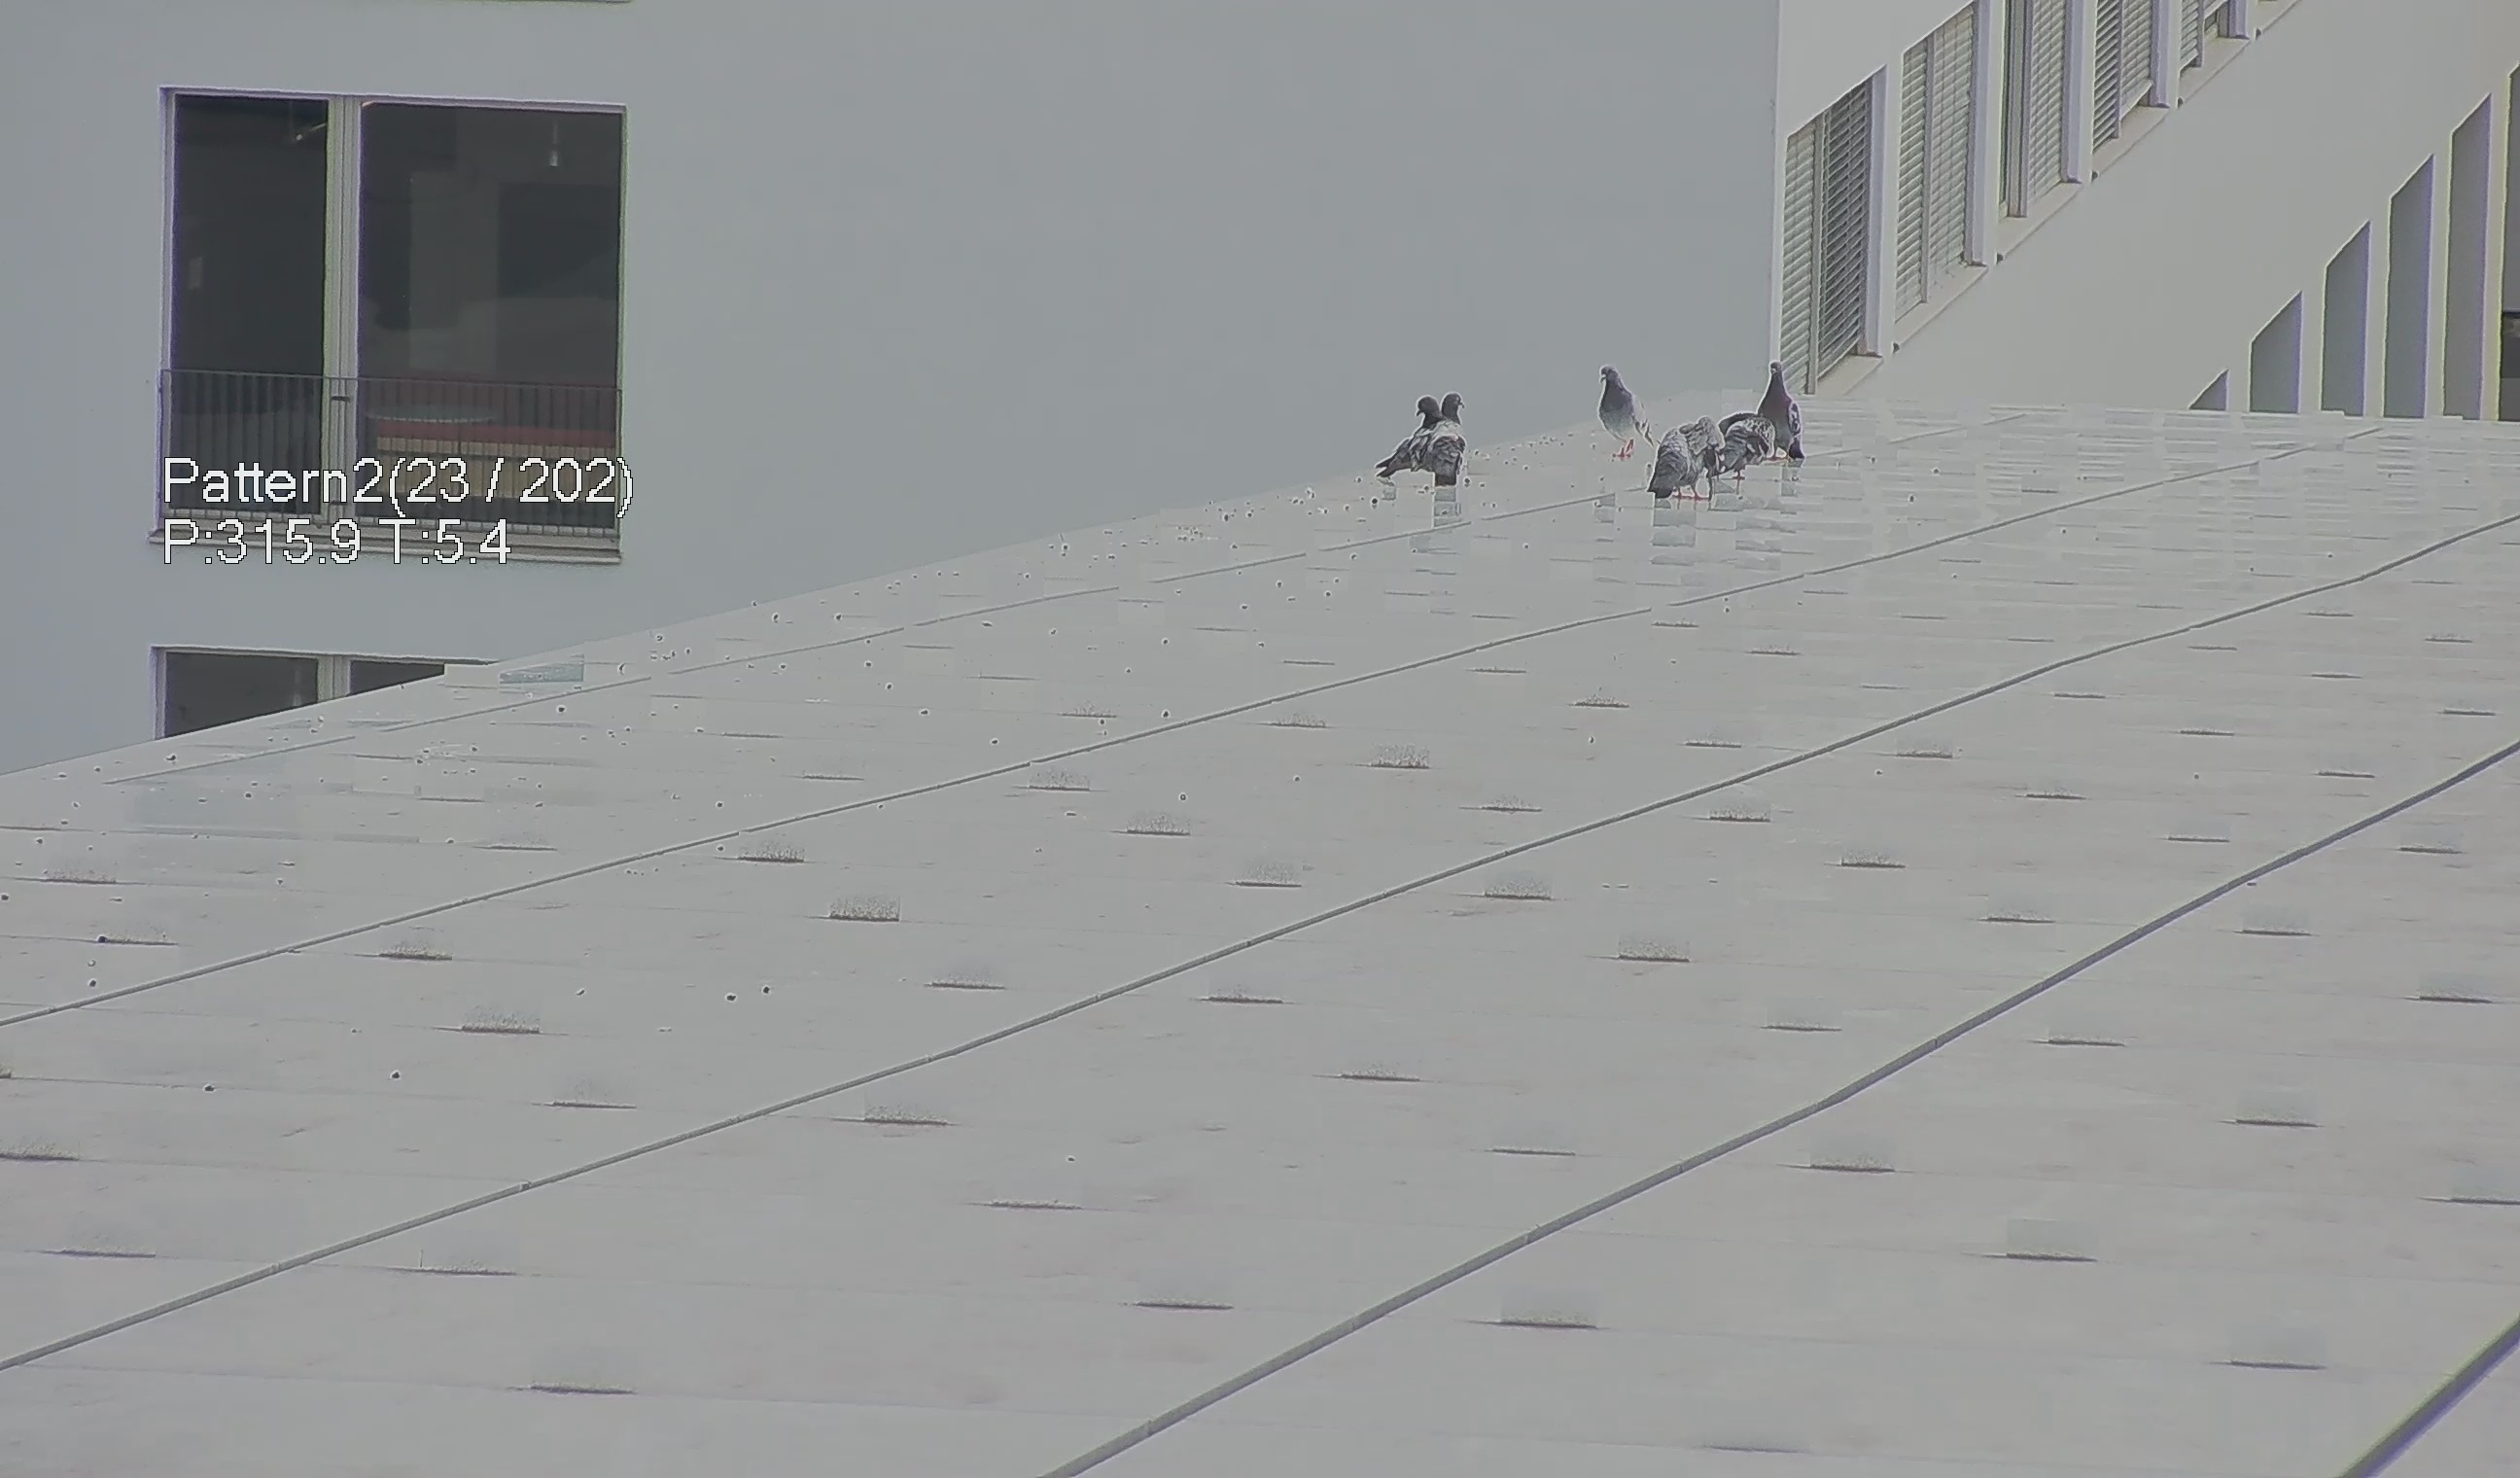Pigeon: (1400, 391, 1484, 496), (1634, 410, 1725, 507), (1591, 357, 1650, 457), (1759, 350, 1810, 459), (1708, 413, 1773, 494), (1442, 391, 1467, 428)
